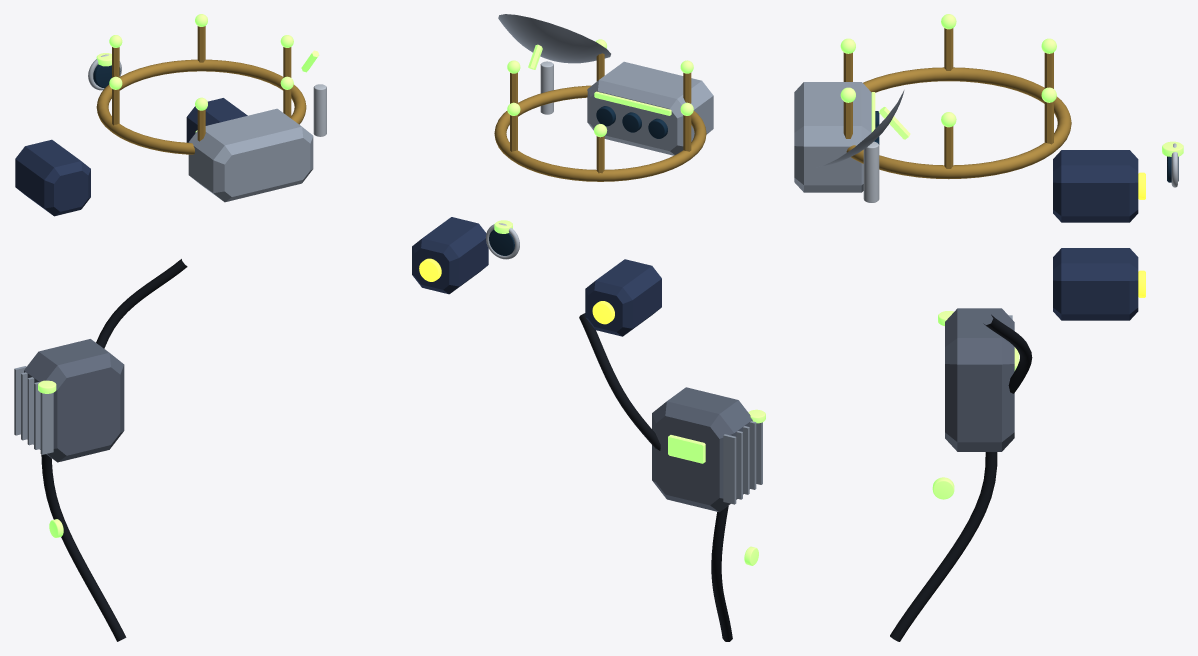
File: tower_detector_analysis_s10.glb
3 renders of one model, left to right at view 1: azimuth 30°, elevation 25°; view 2: azimuth 150°, elevation 25°; view 3: azimuth 270°, elevation 25°, orthographic. The views are drawn at different scales.
Visible parts, largest first — view 1: detector_cluster, detector_recorder, detector_mark_projector_b, detector_crown_ring, detector_recorder_fins, detector_harness_b, detector_harness_a, detector_mark_projector, detector_uplink_post; view 2: detector_recorder, detector_cluster, detector_crown_ring, detector_mark_projector_b, detector_mark_projector, detector_uplink_dish, detector_recorder_fins, detector_harness_a, detector_harness_b, detector_recorder_face, detector_uplink_post, detector_cluster_bar (+1 smaller); view 3: detector_recorder, detector_cluster, detector_mark_projector, detector_mark_projector_b, detector_crown_ring, detector_harness_b, detector_harness_a, detector_uplink_post, detector_uplink_dish.
Part boxes in pixels (left/top/right/bottom): detector_cluster: left=188, top=108, right=313, bottom=202; detector_recorder: left=24, top=339, right=124, bottom=462; detector_mark_projector_b: left=15, top=139, right=90, bottom=216; detector_crown_ring: left=96, top=59, right=306, bottom=154; detector_recorder_fins: left=14, top=366, right=53, bottom=454; detector_harness_b: left=41, top=454, right=126, bottom=641; detector_harness_a: left=96, top=259, right=187, bottom=348; detector_mark_projector: left=186, top=98, right=247, bottom=142; detector_uplink_post: left=313, top=84, right=326, bottom=136; detector_recorder: left=652, top=387, right=752, bottom=512; detector_cluster: left=587, top=61, right=713, bottom=155; detector_crown_ring: left=494, top=85, right=706, bottom=181; detector_mark_projector_b: left=585, top=259, right=661, bottom=336; detector_mark_projector: left=412, top=217, right=488, bottom=294; detector_uplink_dish: left=498, top=14, right=610, bottom=63; detector_recorder_fins: left=723, top=421, right=762, bottom=504; detector_harness_a: left=579, top=313, right=660, bottom=450; detector_harness_b: left=711, top=505, right=732, bottom=641; detector_recorder_face: left=668, top=435, right=705, bottom=463; detector_uplink_post: left=540, top=61, right=553, bottom=114; detector_cluster_bar: left=594, top=91, right=671, bottom=115; detector_recorder: left=945, top=308, right=1014, bottom=451; detector_cluster: left=794, top=82, right=871, bottom=192; detector_mark_projector: left=1053, top=248, right=1138, bottom=320; detector_mark_projector_b: left=1053, top=150, right=1138, bottom=222; detector_crown_ring: left=846, top=67, right=1071, bottom=179; detector_harness_b: left=890, top=452, right=997, bottom=641; detector_harness_a: left=983, top=314, right=1032, bottom=393; detector_uplink_post: left=863, top=141, right=879, bottom=202; detector_uplink_dish: left=817, top=90, right=904, bottom=167.
Bounding box in the file's own units: 1.05 × 1.92 × 1.01.
